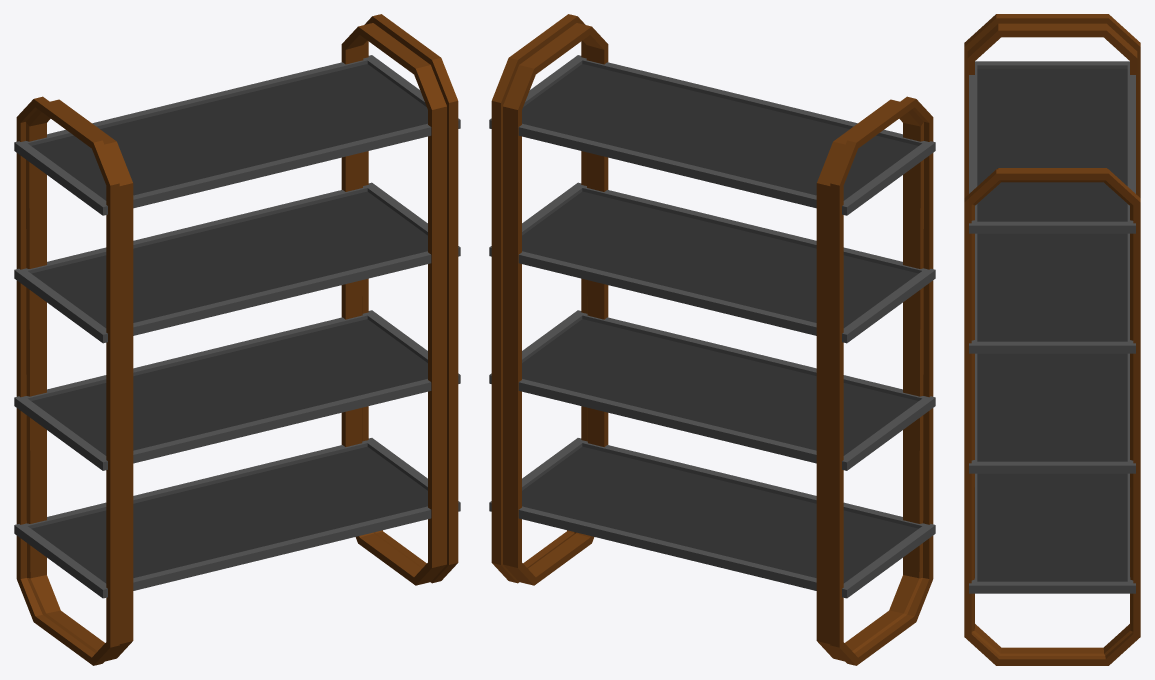
File: Shelf.fbx
3 views of the same model, side by side, from view 1: azimuth 30°, elevation 25°; view 2: azimuth 150°, elevation 25°; view 3: azimuth 270°, elevation 25° (orthographic). The views are drawn at different scales.
Visible parts, largest first — view 1: mergedBlocks; view 2: mergedBlocks; view 3: mergedBlocks.
Boxes of the visible parts, left/top/right/bottom form: mergedBlocks: left=14, top=14, right=460, bottom=665; mergedBlocks: left=489, top=14, right=935, bottom=665; mergedBlocks: left=964, top=14, right=1140, bottom=665.
Size of the model in its own units: 17.89 by 25 by 8.11.
